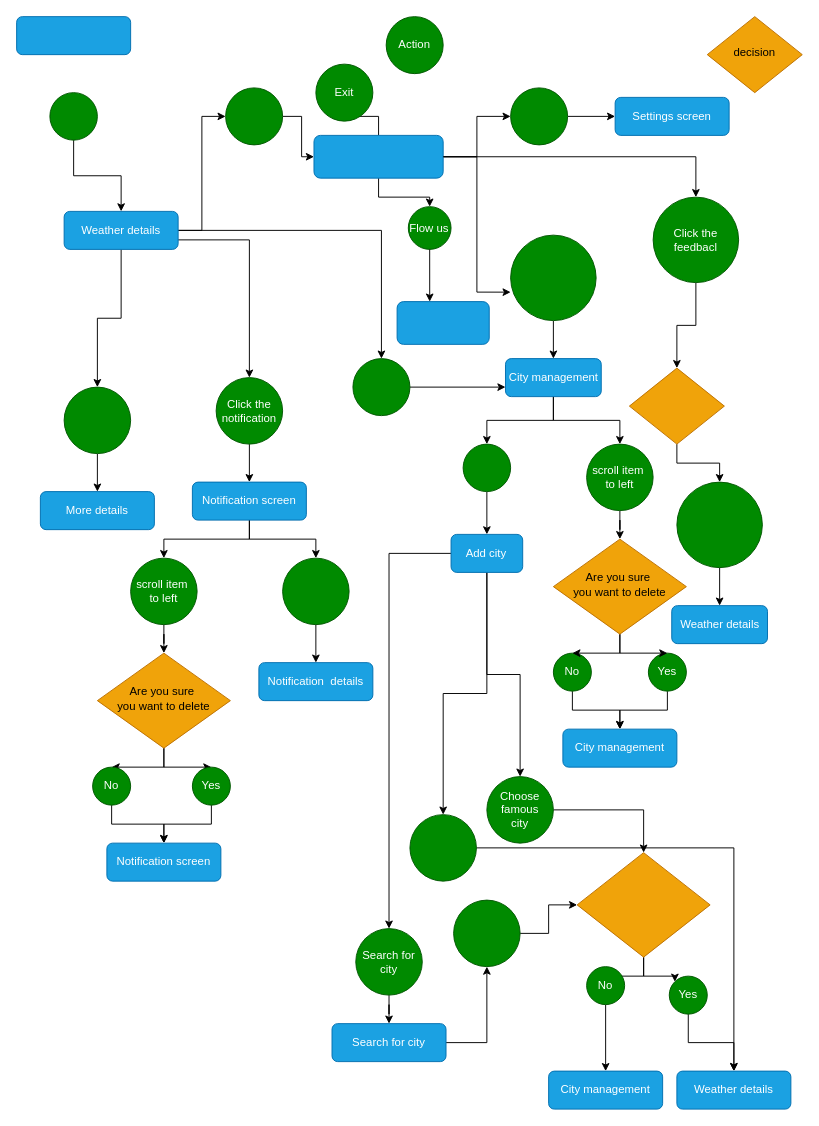
Some shapes in this 819 by 1126 pixel diagram are drawn without their labels. The shapes that lost their labels are listed below. From the top down, each one's centre as x and y in pixels, then its label:
(73,35): Screen
(73,116): Open App
(254,116): Click the menu
(539,116): Click the Settings
(378,156): Navigation drawer settings
(553,277): Click the City management
(442,322): Social media pages
(381,387): Click the city
(676,405): Gimme us a evaluation
(97,420): Show more details
(486,467): Add
(719,524): Write feedback and choose stars
(315,591): Click item
(442,847): Use google maps
(643,904): Are you sure you want to add it?
(486,933): Click city item
